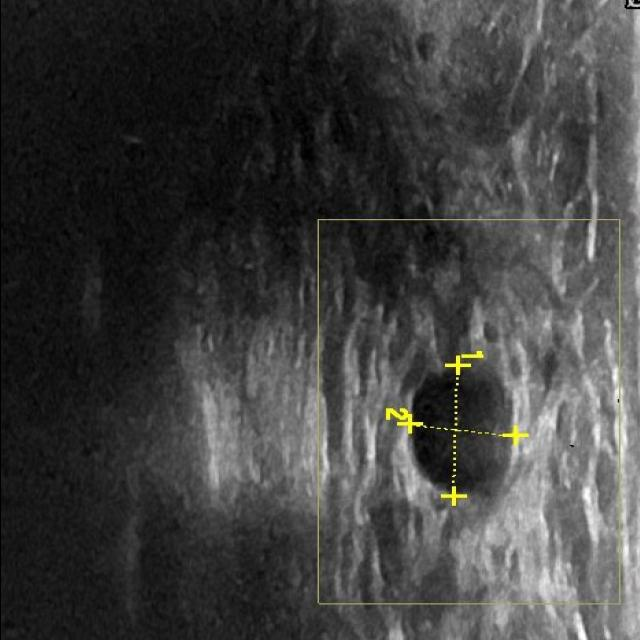Benign: (410, 354, 516, 502)
